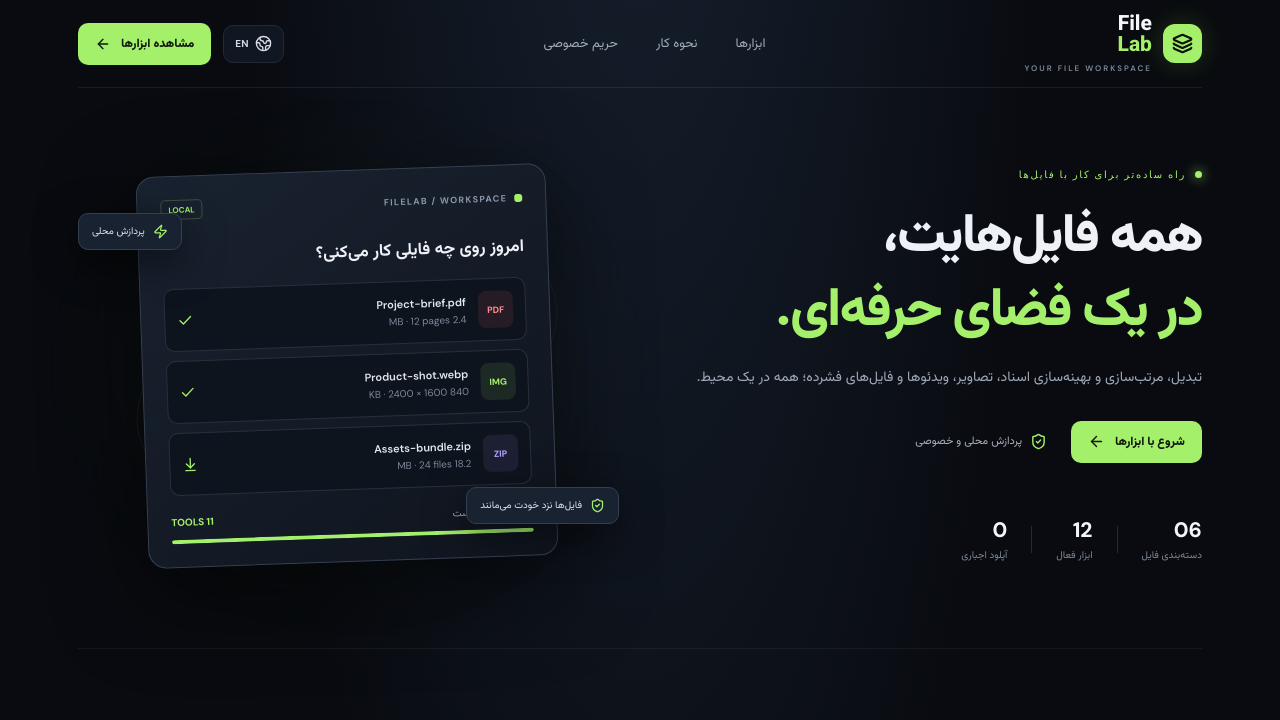
Test case: FileLab interface › switches the interface to English
Click the button with aria-label "Change language".
click(254, 44)  # box [223,24,284,62]
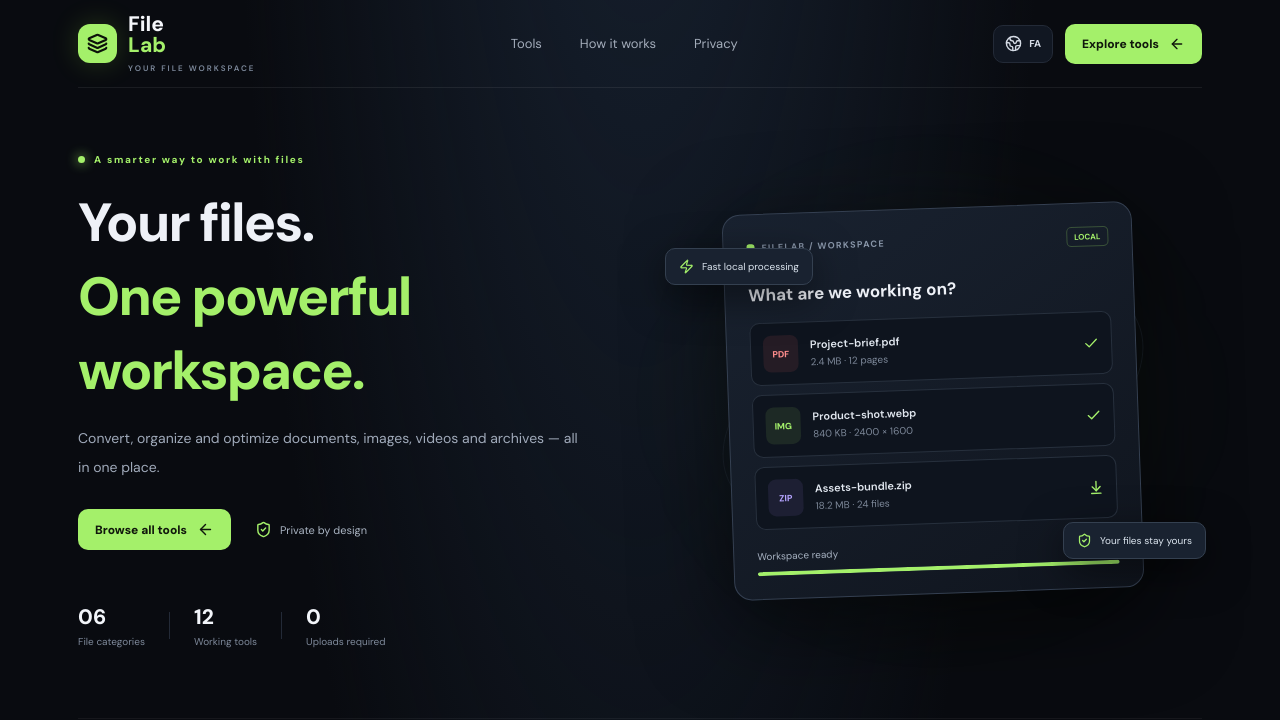
Expected: the heading "Your files.One powerful workspace." is shown, [78,188,411,406]
